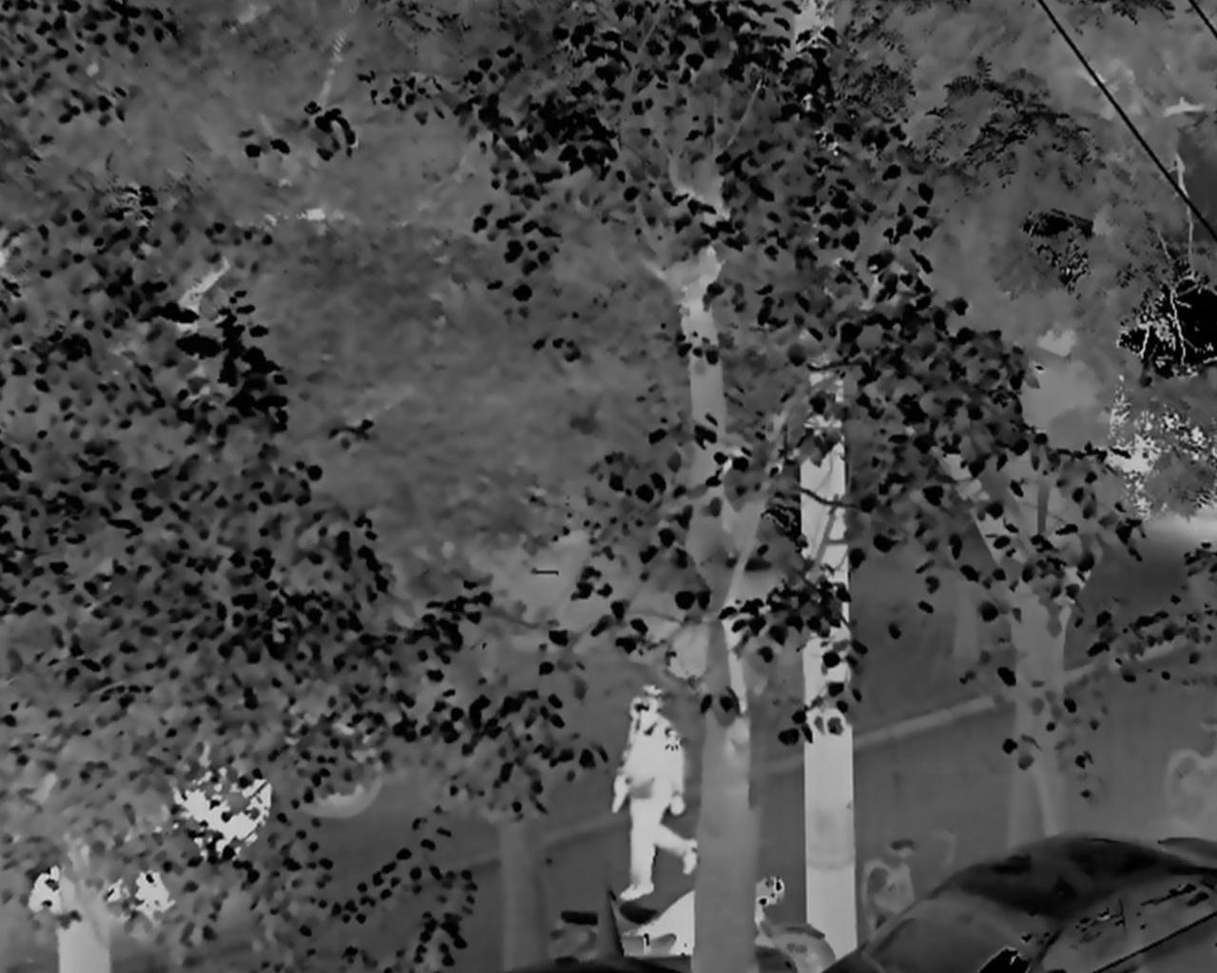person: (611, 683, 698, 900)
